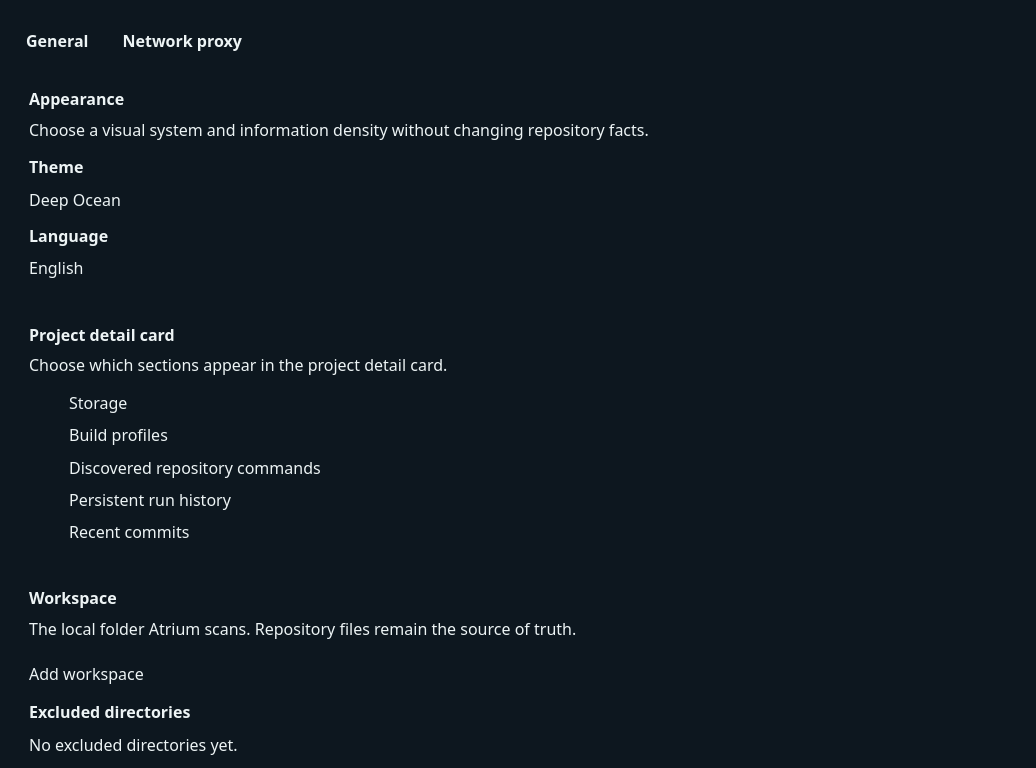
Test: build network proxy › clearing the field turns the proxy off
Click the tab "Network proxy" at coordinates (182, 41), box [108,24,256,58]
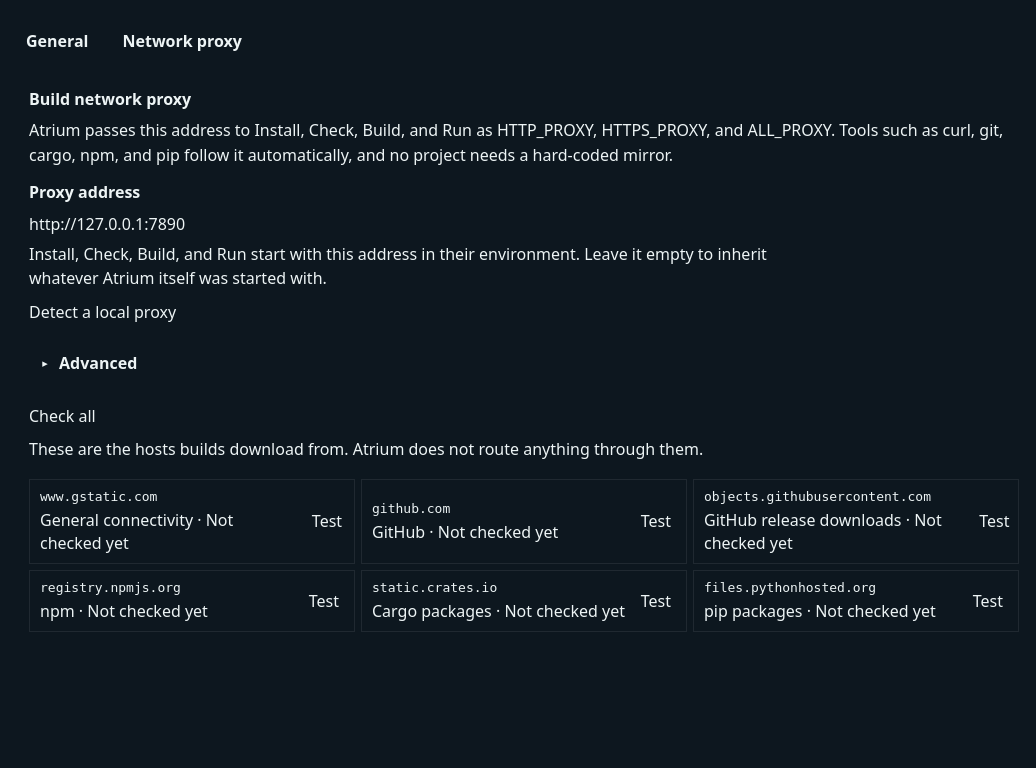
Now the field labelled "Proxy address" is shown
Now the field labelled "Proxy address" holds "http://127.0.0.1:7890"
Clear the field labelled "Proxy address" at coordinates (259, 224), box [29,213,489,235]
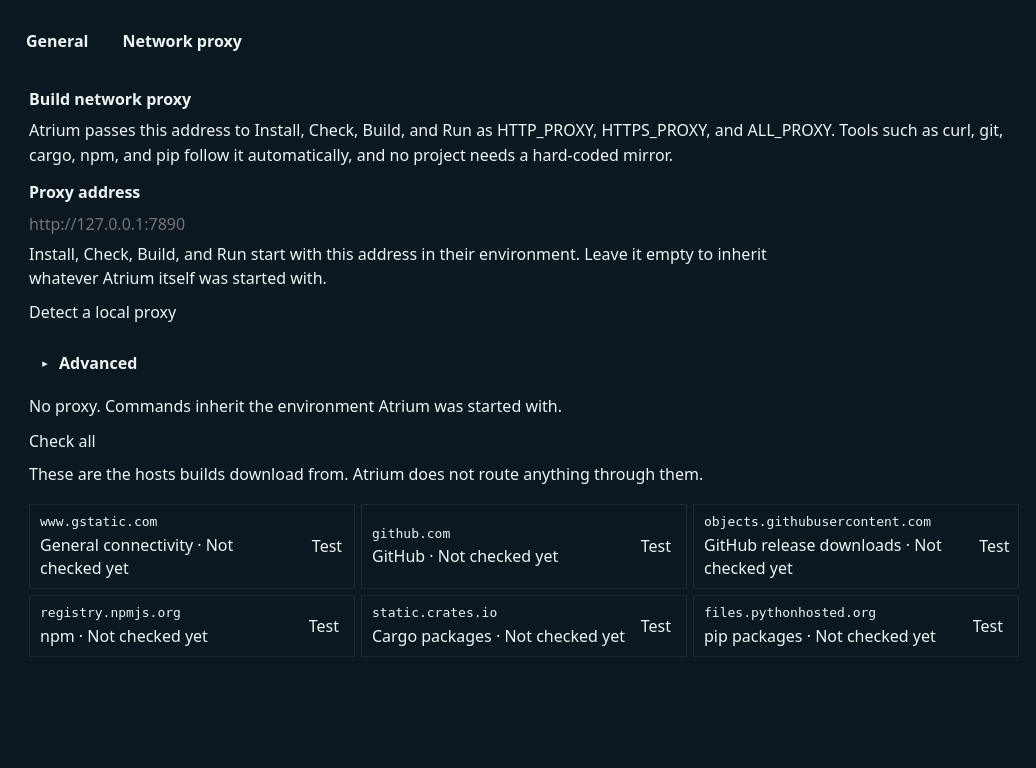
Now the text "No proxy. Commands inherit the environment Atrium was started with." is shown, box [29,395,562,417]
